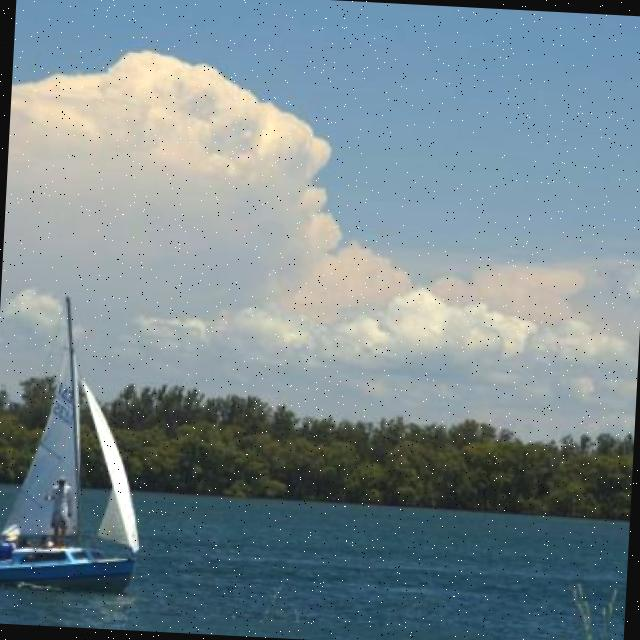Cb: (8, 35, 640, 319)
